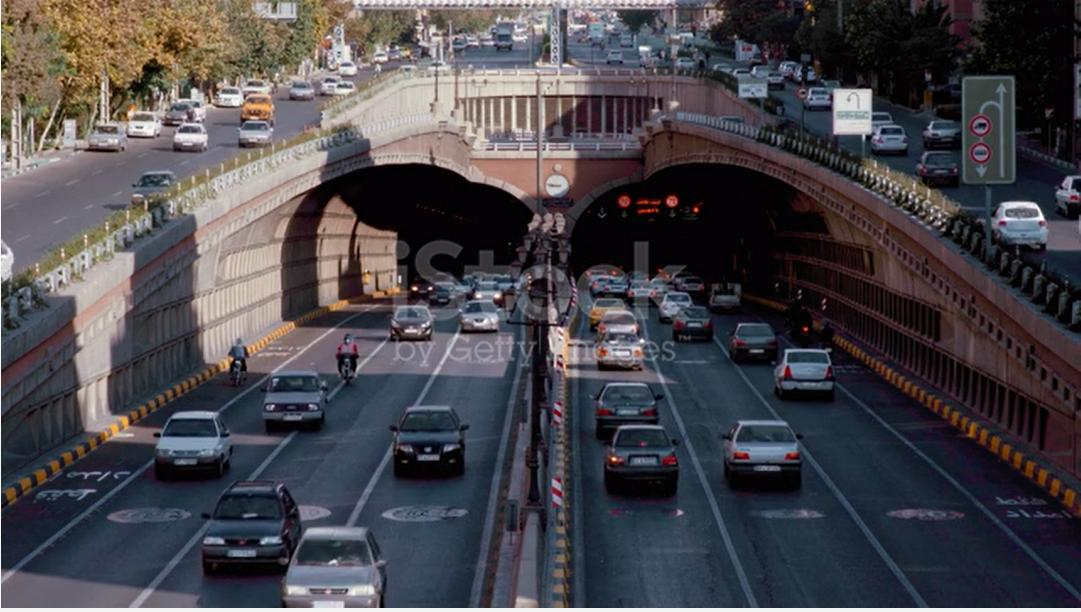car: (178, 472, 323, 589), (280, 509, 399, 612), (130, 389, 239, 487), (712, 403, 807, 502), (250, 355, 340, 456), (373, 405, 477, 487), (598, 406, 682, 500), (762, 335, 852, 411), (986, 190, 1056, 257), (590, 322, 654, 382), (660, 292, 723, 350), (115, 163, 185, 212), (869, 105, 922, 166), (913, 132, 962, 196), (390, 292, 450, 341), (166, 118, 227, 163), (729, 313, 770, 376), (457, 298, 513, 340), (225, 115, 285, 150)
motorcycle: (208, 338, 258, 393), (326, 333, 371, 392)
